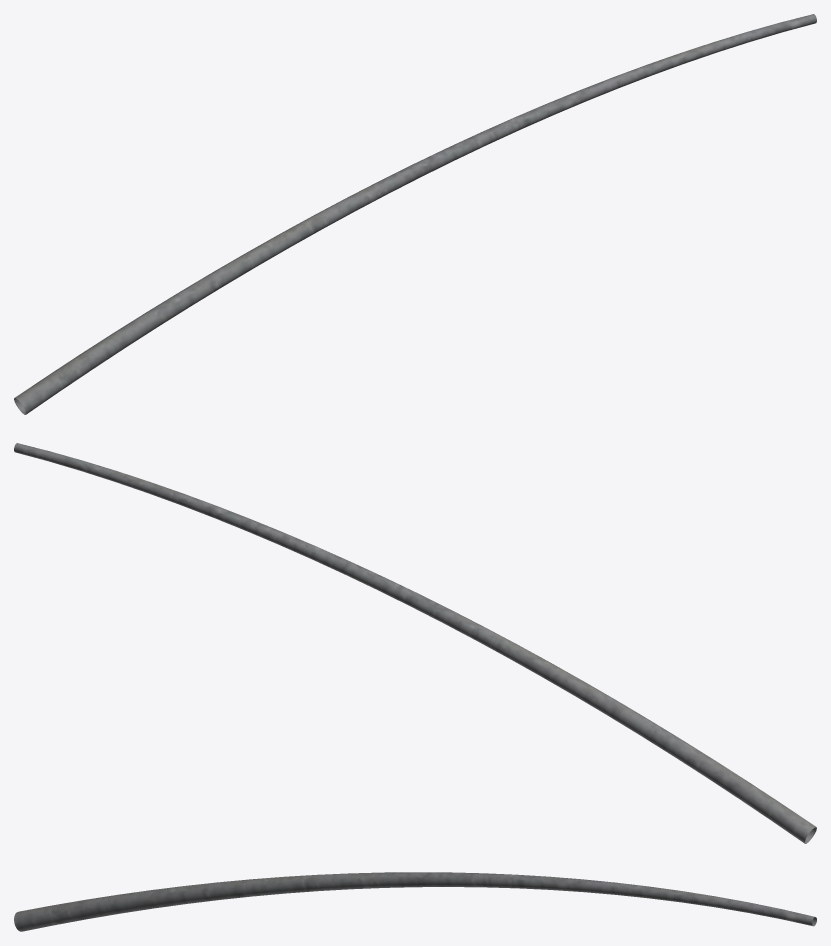
The model's file is armRise3-v1-galvanised.glb.
The picture shows the model from 3 angles, top to bottom: view 1: azimuth 30°, elevation 25°; view 2: azimuth 150°, elevation 25°; view 3: azimuth 330°, elevation 25°; orthographic projection.
Parts seen in each view (by area): view 1: armRise3-v1-galvanised; view 2: armRise3-v1-galvanised; view 3: armRise3-v1-galvanised.
Part boxes in pixels (bbox=[...]): armRise3-v1-galvanised: bbox=[14, 14, 816, 414]; armRise3-v1-galvanised: bbox=[14, 443, 816, 843]; armRise3-v1-galvanised: bbox=[14, 872, 816, 931].
Size of the model in its own units: 9.18 by 2.27 by 0.2032.
1 material, 1 textured.
